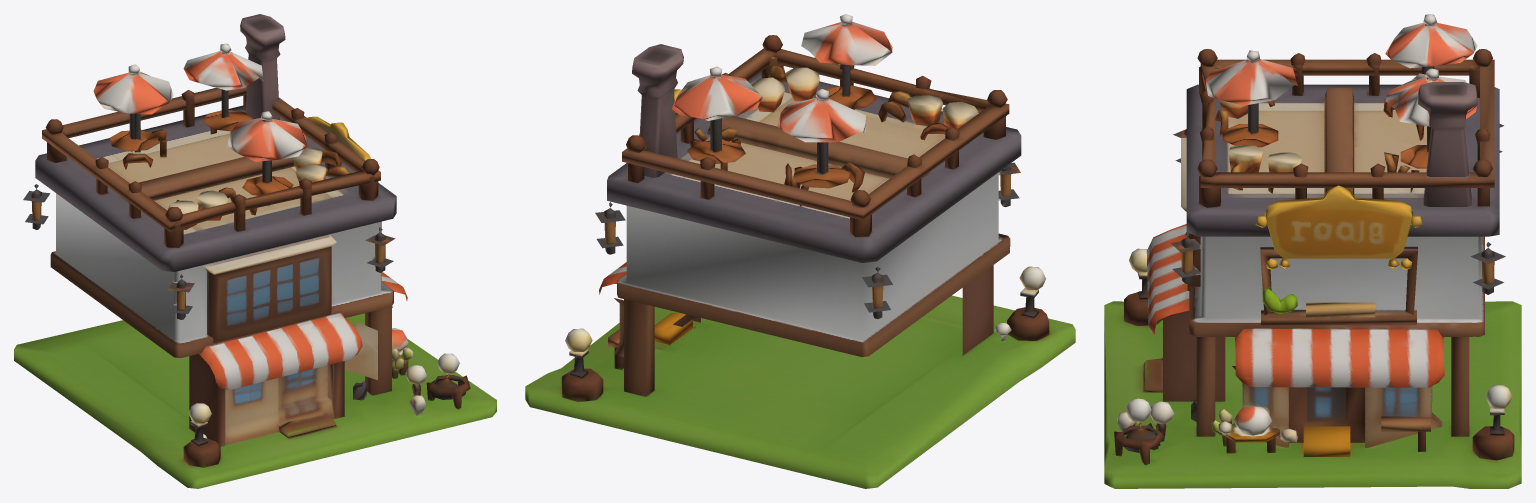
Rendered from cantina_3.glb.
3 renders of one model, left to right at view 1: azimuth 30°, elevation 25°; view 2: azimuth 150°, elevation 25°; view 3: azimuth 270°, elevation 25°, orthographic. The views are drawn at different scales.
Parts seen in each view (by area): view 1: tripo_node_73b81baf-ad3a-4fa1-884a-fc003665e98a; view 2: tripo_node_73b81baf-ad3a-4fa1-884a-fc003665e98a; view 3: tripo_node_73b81baf-ad3a-4fa1-884a-fc003665e98a.
Boxes of the visible parts, x1=… form: tripo_node_73b81baf-ad3a-4fa1-884a-fc003665e98a: x1=14, y1=14, x2=496, y2=488; tripo_node_73b81baf-ad3a-4fa1-884a-fc003665e98a: x1=525, y1=14, x2=1075, y2=488; tripo_node_73b81baf-ad3a-4fa1-884a-fc003665e98a: x1=1104, y1=14, x2=1521, y2=488.
Bounding box in the file's own units: 0.9941 × 0.9199 × 0.998.
1 material, 1 textured.
